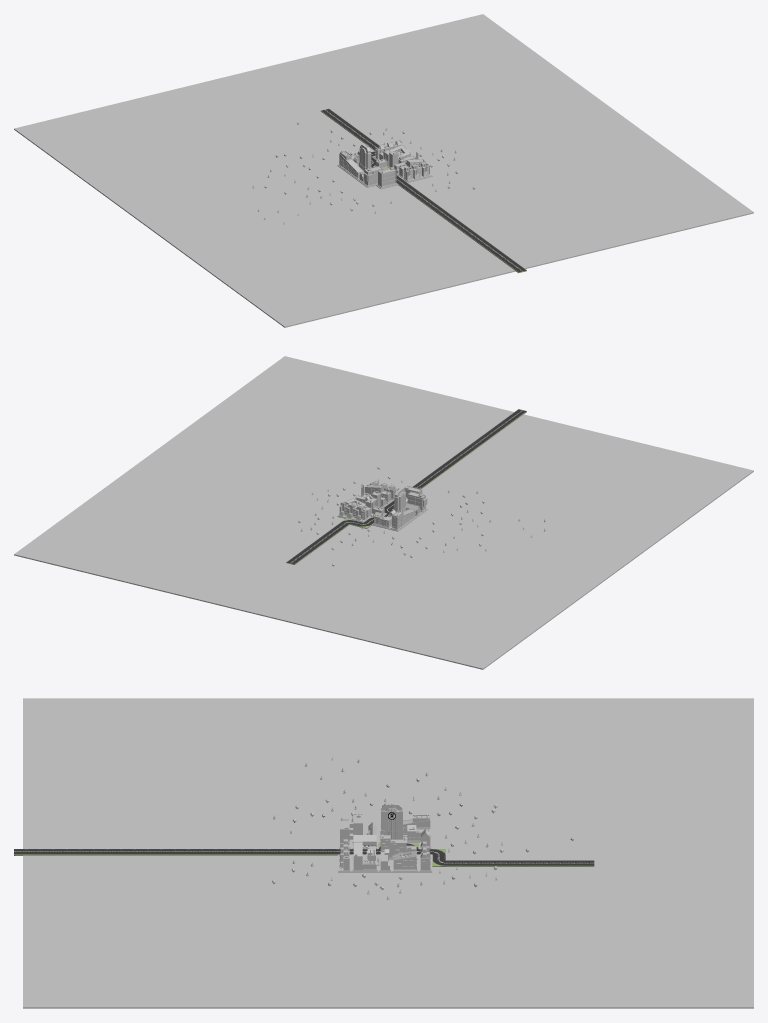
Rendered from Menu_Scene.FBX.
3 renders of one model, top to bottom at view 1: azimuth 30°, elevation 25°; view 2: azimuth 150°, elevation 25°; view 3: azimuth 270°, elevation 25°, orthographic. The views are drawn at different scales.
Visible parts, largest first — view 1: Box054, Object054; view 2: Box054; view 3: Box054, Object064, Object067, Object054, Object053, Object057.
Boxes of the visible parts, box(x1,y1,x2,y2) form: Box054: box(14, 14, 753, 327); Object054: box(362, 166, 398, 189); Box054: box(14, 356, 753, 669); Box054: box(23, 698, 753, 1008); Object064: box(378, 803, 405, 843); Object067: box(351, 841, 378, 872); Object054: box(338, 813, 364, 848); Object053: box(378, 834, 418, 860); Object057: box(392, 850, 418, 872).
Size of the model in its own units: 54.22 by 3.25 by 54.89.
